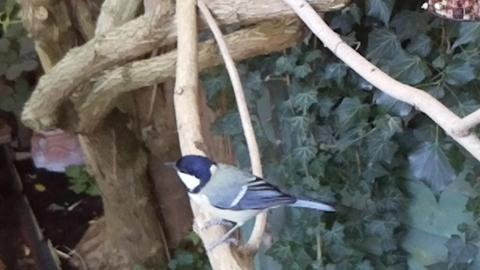great tit: (162, 154, 338, 253)
